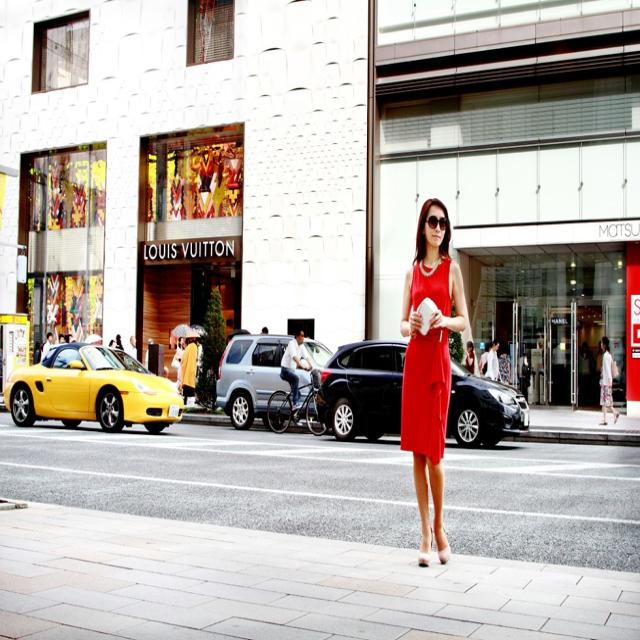body: (398, 194, 470, 569), (279, 326, 315, 418), (599, 334, 620, 426), (180, 329, 200, 406), (578, 341, 595, 406), (534, 322, 552, 376), (171, 336, 186, 396), (144, 335, 156, 397), (484, 337, 500, 382), (194, 336, 204, 404), (498, 342, 512, 387), (595, 339, 604, 407), (517, 348, 529, 397), (478, 341, 492, 379), (125, 334, 138, 368), (464, 339, 476, 375), (42, 331, 54, 362), (107, 331, 124, 350), (32, 340, 42, 366), (58, 331, 78, 344), (259, 324, 269, 334)
